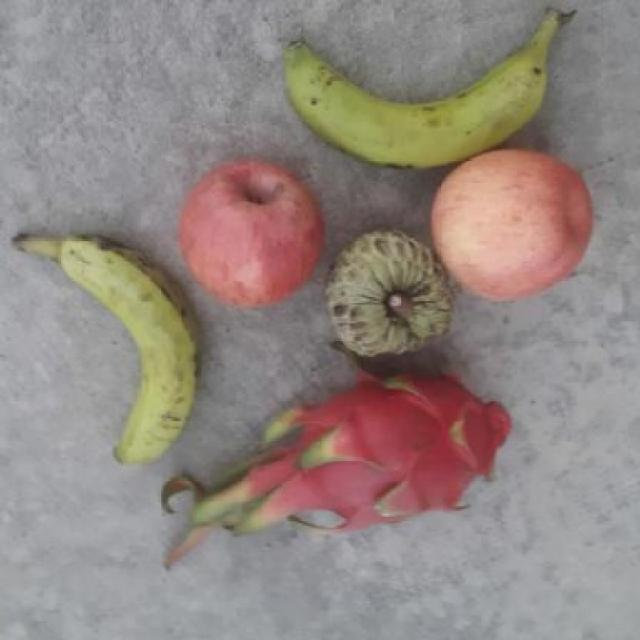apple: (433, 152, 599, 303), (182, 160, 330, 312)
banana: (3, 236, 203, 473), (270, 13, 553, 176)
dragon fruit: (276, 367, 516, 536)
sugar apple: (332, 229, 459, 365)
